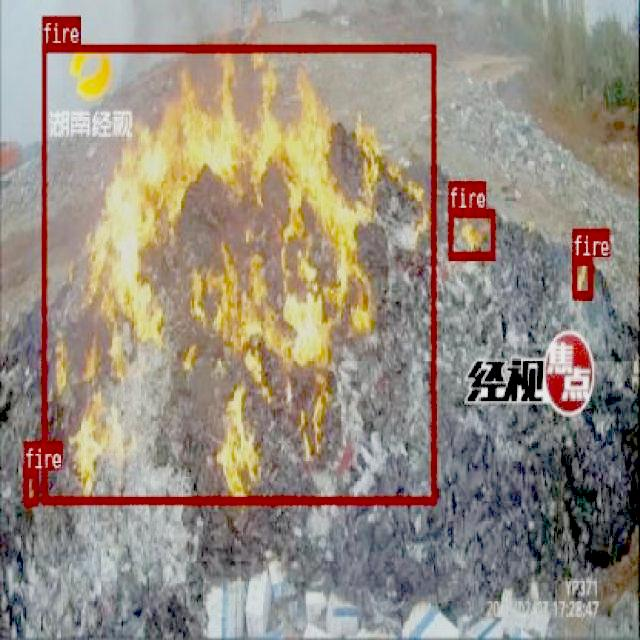fire: (41, 43, 434, 503), (448, 208, 494, 260), (572, 257, 592, 297), (23, 468, 37, 504)
